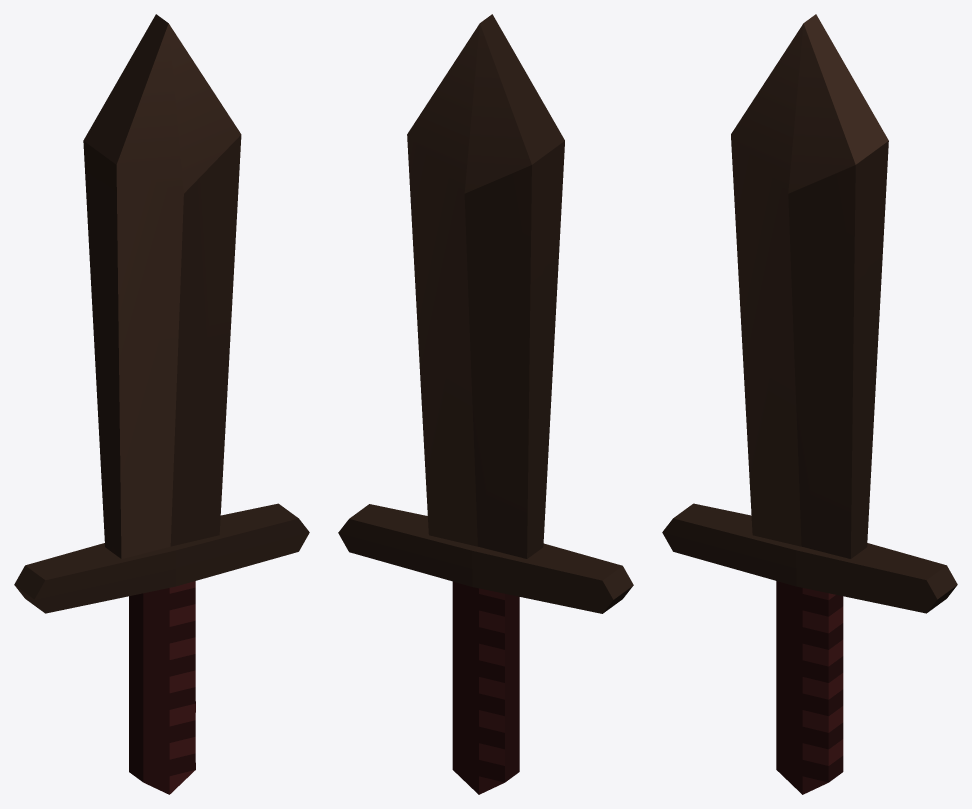
Rendered from Sword06.fbx.
The picture shows the model from 3 angles, left to right: view 1: azimuth 30°, elevation 25°; view 2: azimuth 150°, elevation 25°; view 3: azimuth 330°, elevation 25°; orthographic projection.
Parts seen in each view (by area): view 1: SwordWooden; view 2: SwordWooden; view 3: SwordWooden.
Boxes of the visible parts, <box> form: SwordWooden: <box>14,14,309,794</box>; SwordWooden: <box>338,14,633,794</box>; SwordWooden: <box>662,14,957,794</box>.
Size of the model in its own units: 0.1222 by 0.3269 by 0.0331.
